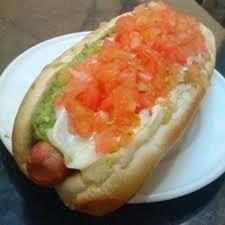Completos: (6, 0, 218, 223)
